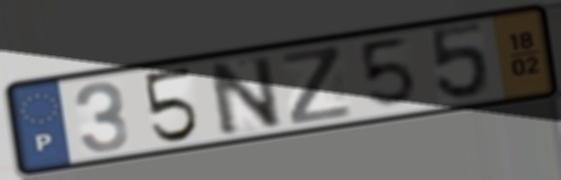3: (72, 80, 131, 154)
5: (427, 19, 494, 105), (353, 34, 421, 111), (139, 63, 199, 146)
N: (204, 51, 287, 139)
Z: (276, 42, 357, 128)
